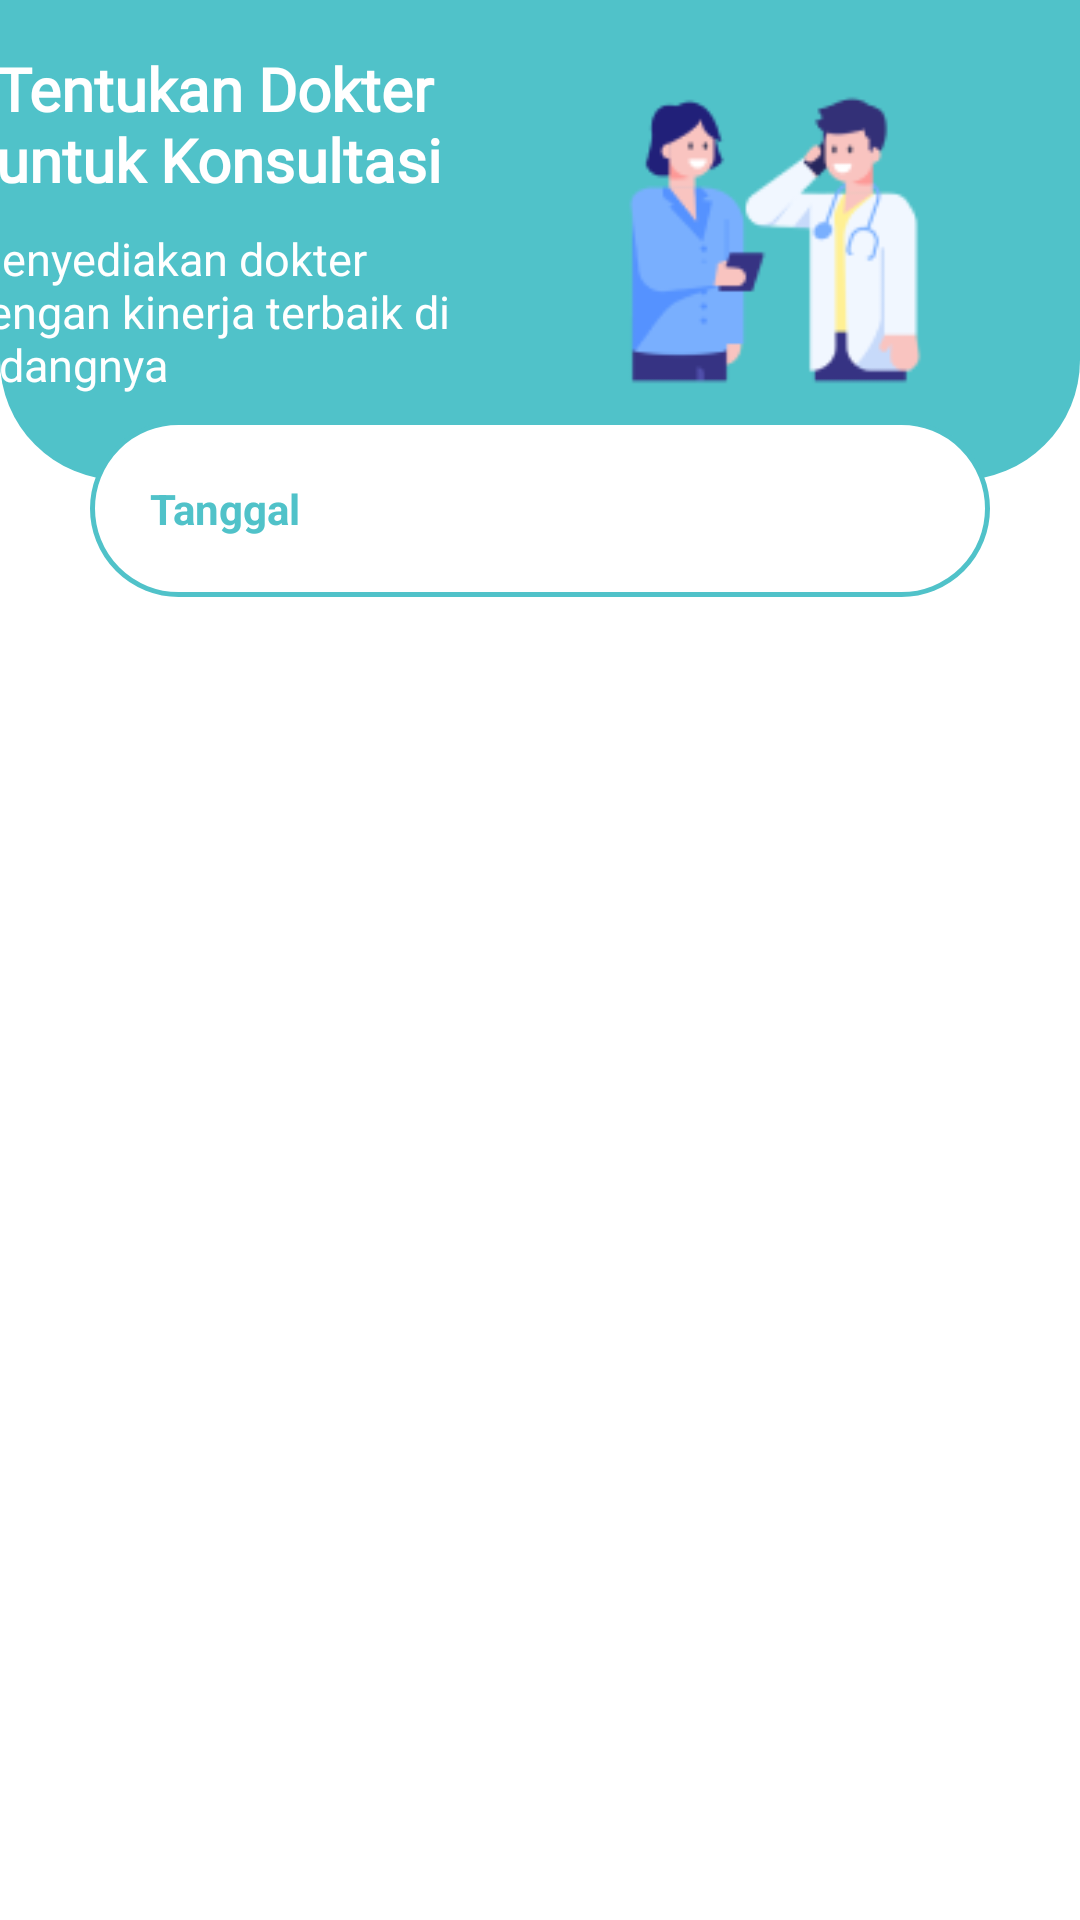

Point at icon controls on the screen. Image size 1080x1920, points as [x,y].
mainimg: [776,240]
